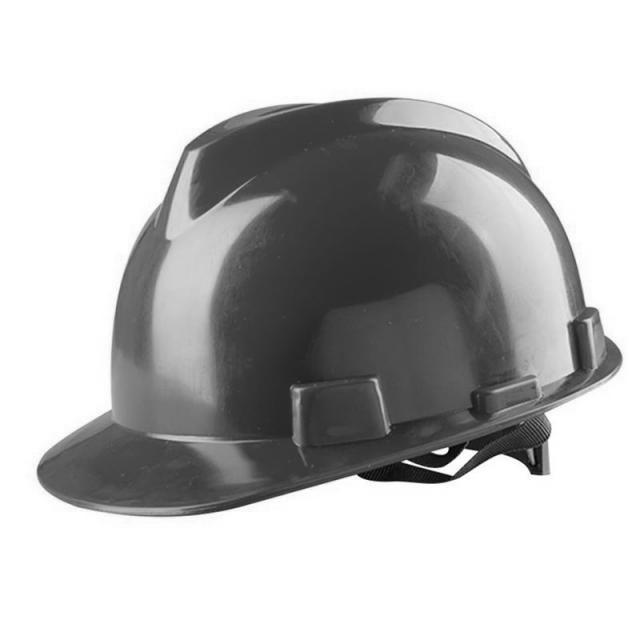safety_helmet: (35, 97, 624, 520)
